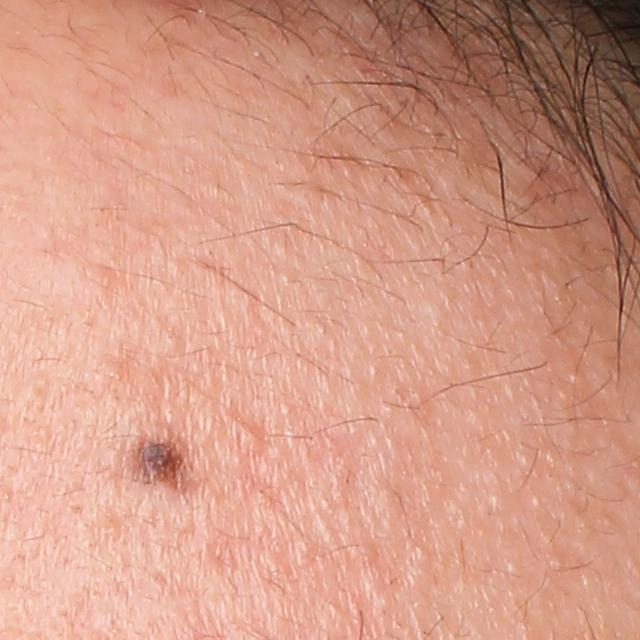comedo: (234, 423, 269, 456)
nevus: (131, 439, 187, 484)
